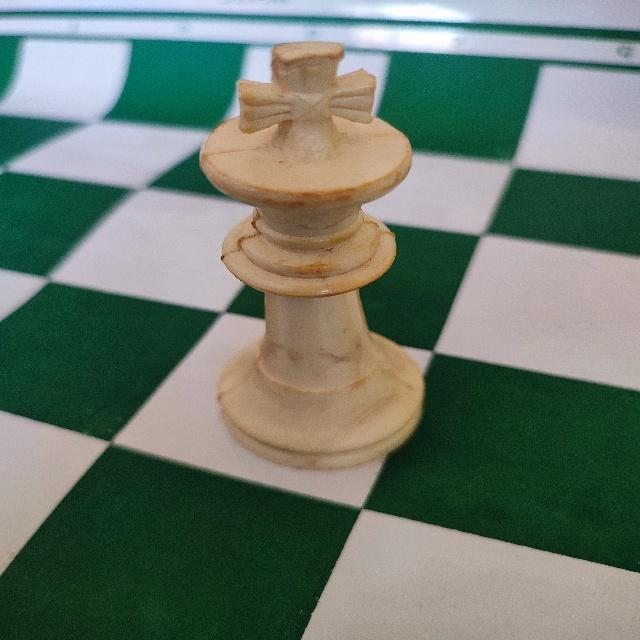King: (195, 41, 433, 477)
